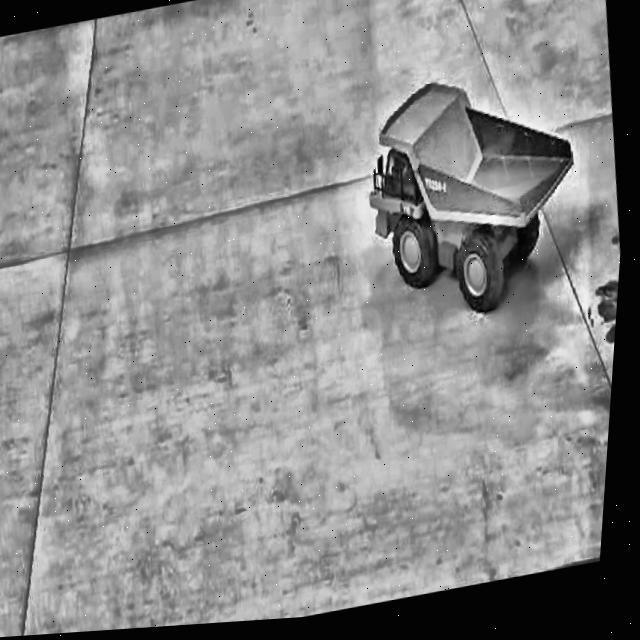dump_truck: (346, 53, 598, 328)
